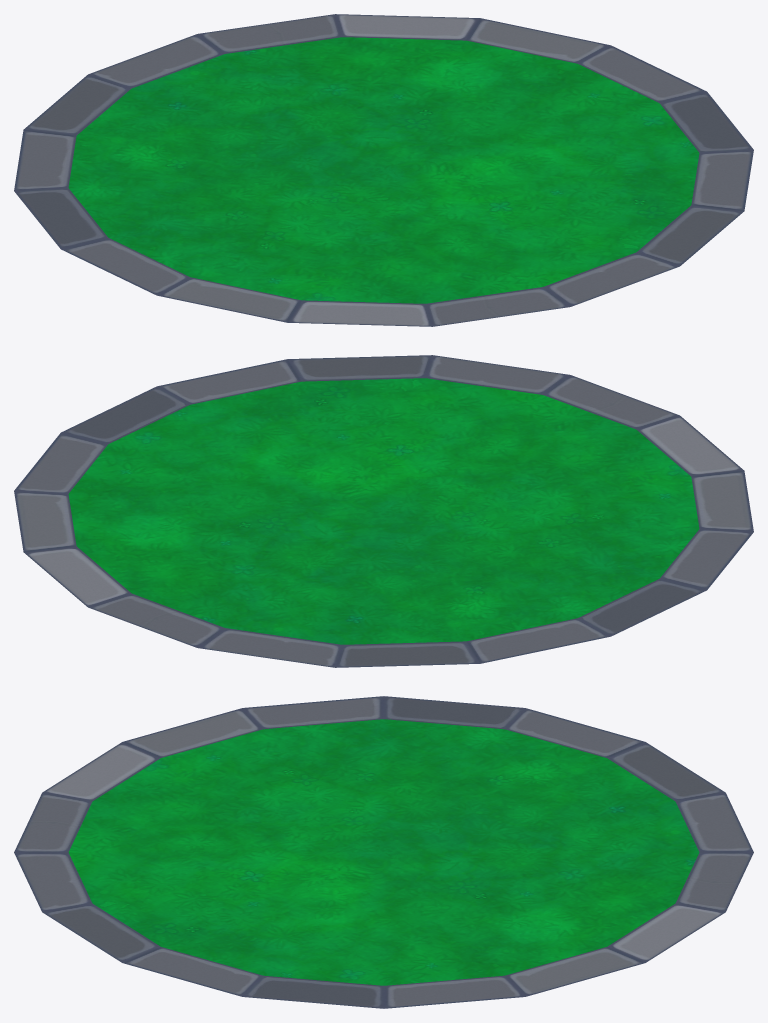
The model's file is Ground01_b01.FBX.
3 views of the same model, one above another, from view 1: azimuth 30°, elevation 25°; view 2: azimuth 150°, elevation 25°; view 3: azimuth 270°, elevation 25° (orthographic).
Parts seen in each view (by area): view 1: Ground01_b01; view 2: Ground01_b01; view 3: Ground01_b01.
Part boxes in pixels (left/top/right/bottom): Ground01_b01: left=14, top=14, right=753, bottom=326; Ground01_b01: left=14, top=355, right=753, bottom=667; Ground01_b01: left=14, top=696, right=753, bottom=1008.
Bounding box in the file's own units: 430 × 0.000109 × 430.
2 materials, 2 textured.
